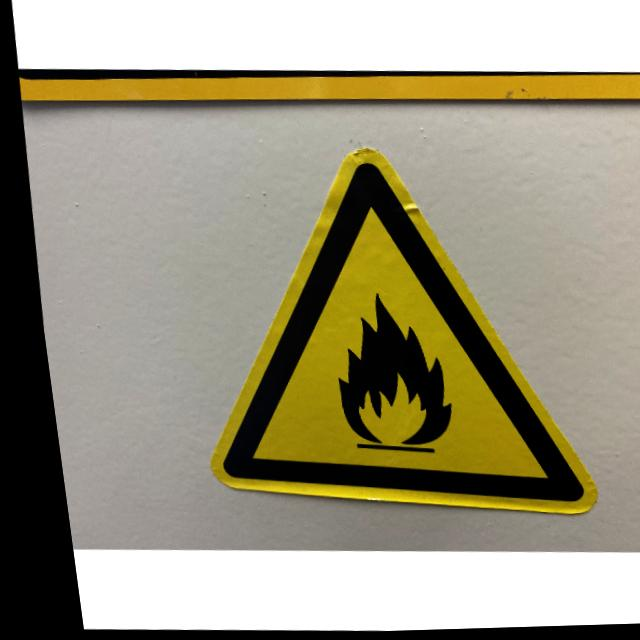fire hazard: (162, 139, 597, 525)
